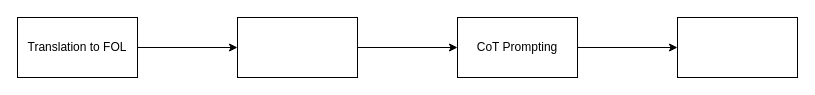
This 815x95 diagram has some shape labels left out. The shapes that lost their labels are listed below. From the top down, each one's box as (x1, y1, x2, y2) in pixels, then its label:
(236, 16, 358, 78): Decomposition to CNF
(676, 16, 798, 78): Evaluation
